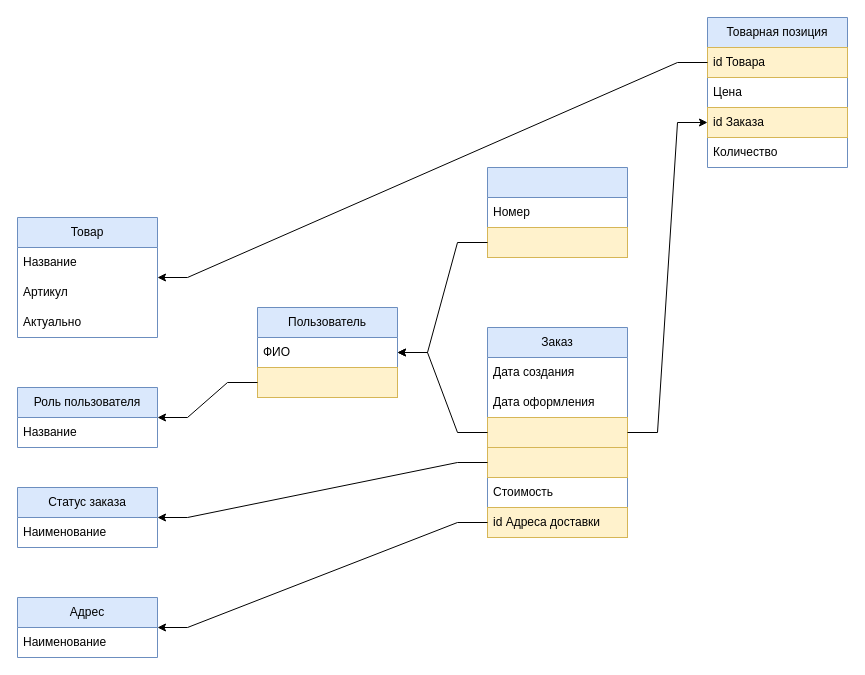
This 865x675 diagram has some shape labels left out. Here are the shapes that lost their labels. From the top down, the box of each, then its label:
(486, 166, 628, 258): Телефонный номер
(486, 226, 628, 258): id Пользователя
(256, 366, 398, 398): id Роли
(486, 416, 628, 448): id Создателя
(486, 446, 628, 478): id Статуса
